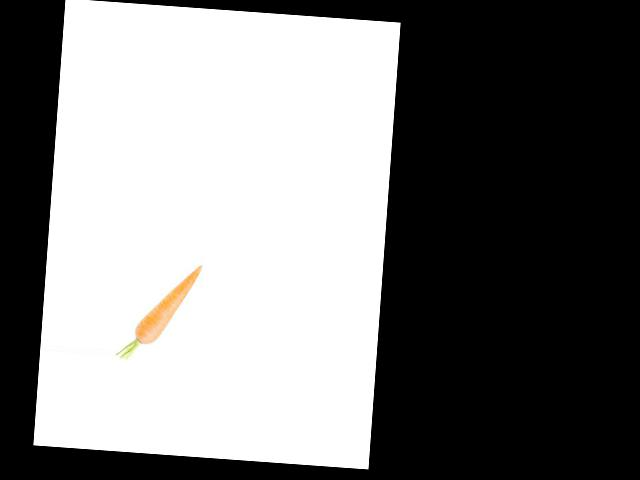carrot: (133, 258, 204, 349)
